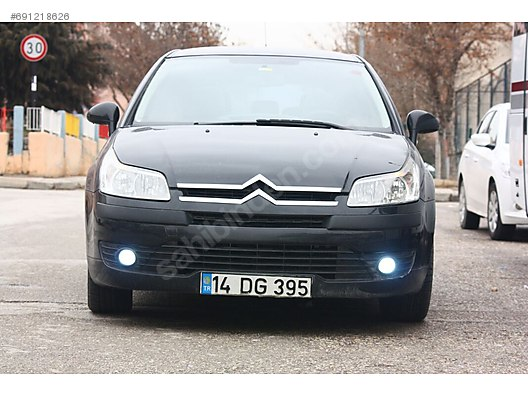citroen: (82, 40, 438, 328)
